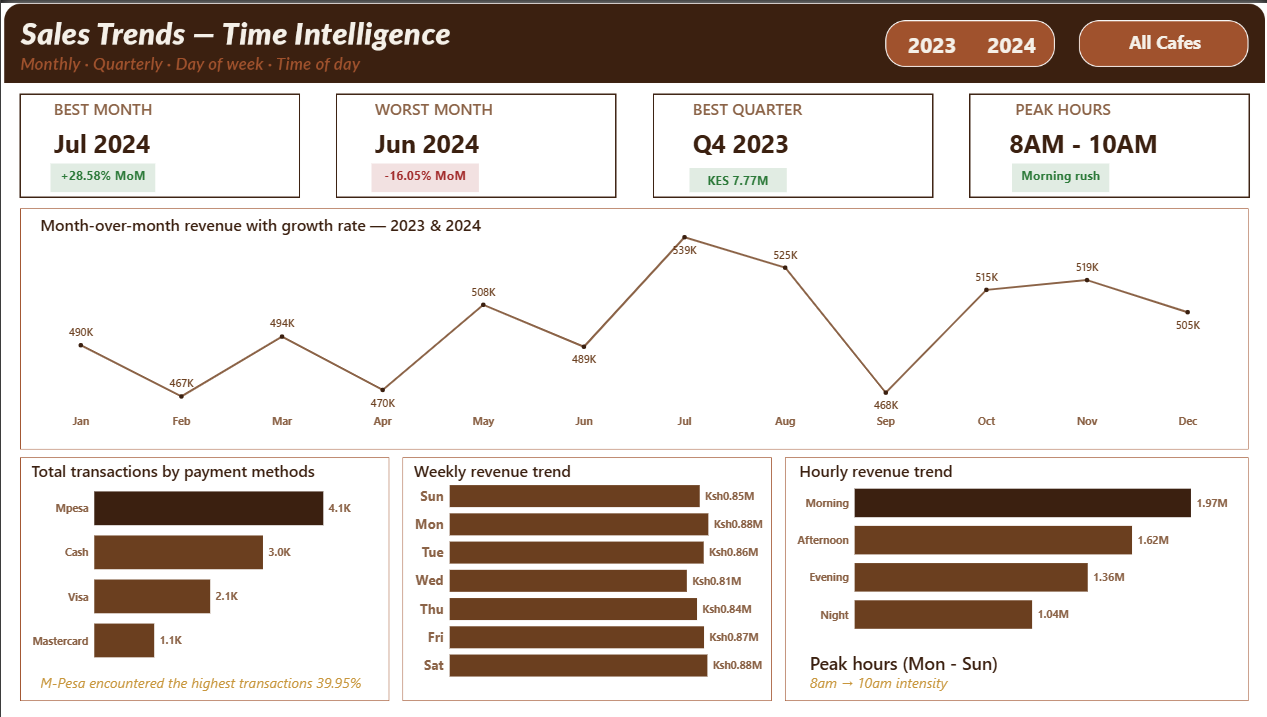

The page's visual inventory and layout, read from the dashboard file:
{"tool":"powerbi","page":{"name":"Page 2-Sales_Trend","canvas":[1920,1080],"ordinal":1},"visuals":[{"type":"textbox","box":[75,138.5,258.9,56.8],"z":0},{"type":"textbox","box":[561,138.5,299.8,56.8],"z":1000},{"type":"textbox","box":[1042.5,138.5,299.8,56.8],"z":2000},{"type":"textbox","box":[1530.9,138.5,295.3,56.8],"z":3000},{"type":"clusteredBarChart","fields":{"Category":["public sales_transaction.day_name"],"Y":["public sales_transaction.total_revenue"]},"box":[620.1,699.6,538.3,343],"z":4000},{"type":"clusteredBarChart","fields":{"Category":["public sales_transaction.timeofday"],"Y":["public sales_transaction.total_revenue"]},"box":[1199.3,699.6,663.2,277.1],"z":5000},{"type":"lineChart","fields":{"Category":["public sales_transaction.month_name"],"Y":["public sales_transaction.total_revenue"]},"box":[54.5,336.2,1808,318],"z":6000},{"type":"textbox","box":[1219.7,976.7,565.6,47.7],"z":7000},{"type":"textbox","box":[1219.7,1008.5,565.6,43.2],"z":8000},{"type":"clusteredBarChart","fields":{"Category":["public sales_transaction.paymentmethod"],"Y":["public sales_transaction.total_transactions"]},"box":[40.9,699.6,531.5,324.8],"z":9000},{"type":"textbox","box":[54.5,1008.5,531.5,43.2],"z":10000},{"type":"advancedSlicerVisual","fields":{"Values":["public sales_transaction.sales_year"]},"box":[1349.2,22.7,243,75],"z":11000},{"type":"textbox","box":[75,181.7,258.9,68.1],"z":12000},{"type":"textbox","box":[561,181.7,299.8,68.1],"z":13000},{"type":"textbox","box":[1042.5,181.7,293,68.1],"z":14000},{"type":"textbox","box":[1521.8,181.7,258.9,68.1],"z":15000},{"type":"textbox","box":[1651.2,36.3,229.4,50],"z":16000},{"type":"textbox","box":[40.9,685.9,531.5,47.7],"z":17000},{"type":"textbox","box":[620.1,685.9,538.3,47.7],"z":18000},{"type":"textbox","box":[1203.8,685.9,651.9,47.7],"z":19000},{"type":"textbox","box":[54.5,313.4,781.3,47.7],"z":20000},{"type":"textbox","box":[75,243,159,43.2],"z":21000},{"type":"textbox","box":[560.9,243.2,162.8,43.1],"z":22000},{"type":"textbox","box":[1042.5,249.8,147.6,36.3],"z":23000},{"type":"textbox","box":[1530.9,243,147.6,43.2],"z":24000}]}

Visuals, with their boxes in screenshot pixels (x1, y1, x2, y2), scaled from the page's 1920x1080 canvas onto the 1267x717 screenshot:
textbox: 49:92:220:130
textbox: 370:92:568:130
textbox: 688:92:886:130
textbox: 1010:92:1205:130
clusteredBarChart - public sales_transaction.day_name x public sales_transaction.total_revenue: 409:464:764:692
clusteredBarChart - public sales_transaction.timeofday x public sales_transaction.total_revenue: 791:464:1229:648
lineChart - public sales_transaction.month_name x public sales_transaction.total_revenue: 36:223:1229:434
textbox: 805:648:1178:680
textbox: 805:670:1178:698
clusteredBarChart - public sales_transaction.paymentmethod x public sales_transaction.total_transactions: 27:464:378:680
textbox: 36:670:387:698
advancedSlicerVisual - public sales_transaction.sales_year: 890:15:1051:65
textbox: 49:121:220:166
textbox: 370:121:568:166
textbox: 688:121:881:166
textbox: 1004:121:1175:166
textbox: 1090:24:1241:57
textbox: 27:455:378:487
textbox: 409:455:764:487
textbox: 794:455:1225:487
textbox: 36:208:552:240
textbox: 49:161:154:190
textbox: 370:161:478:190
textbox: 688:166:785:190
textbox: 1010:161:1108:190
